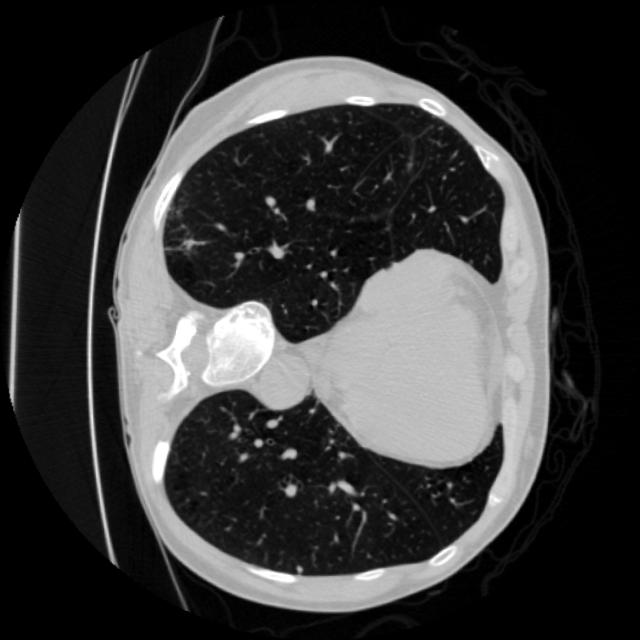nodule: (290, 556, 311, 578)
